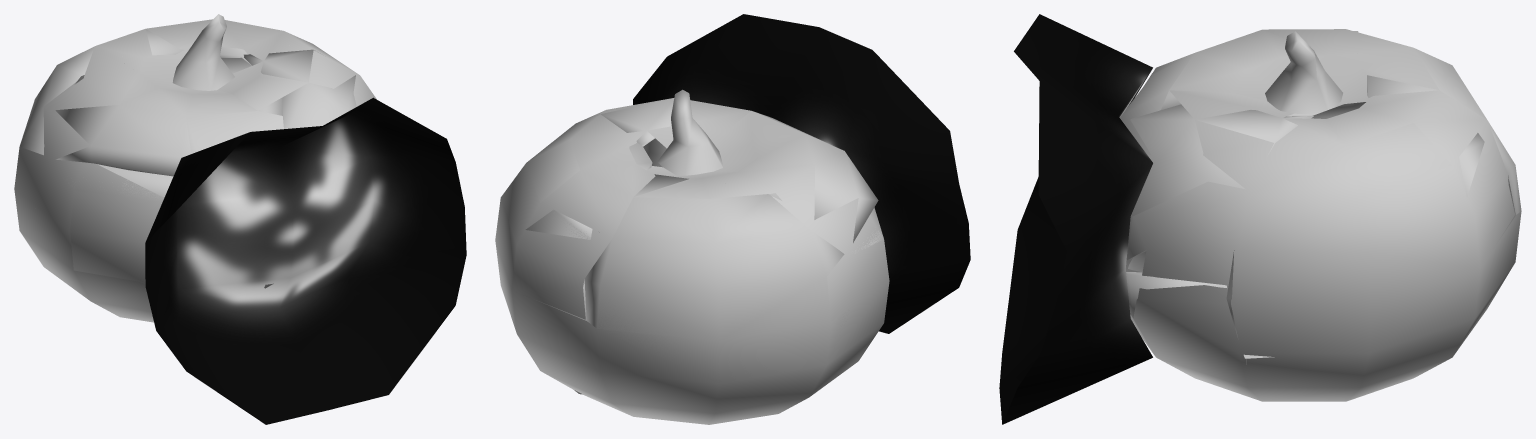
Rendered from Breakable Pumpkin - MDL.fbx.
3 renders of one model, left to right at view 1: azimuth 30°, elevation 25°; view 2: azimuth 150°, elevation 25°; view 3: azimuth 270°, elevation 25°, orthographic. The views are drawn at different scales.
Visible parts, largest first — view 1: PumpkinGlowMesh, PumpkinMeshFace1MAT, PumpkinFragmentMesh7, PumpkinFragmentMesh5, PumpkinFragmentMesh4, PumpkinFragmentMesh1; view 2: PumpkinMeshFace1MAT, PumpkinGlowMesh, PumpkinFragmentMesh1, PumpkinFragmentMesh7, PumpkinFragmentMesh6, PumpkinFragmentMesh4, PumpkinFragmentMesh3; view 3: PumpkinMeshFace1MAT, PumpkinGlowMesh, PumpkinFragmentMesh7, PumpkinFragmentMesh4, PumpkinFragmentMesh6, PumpkinFragmentMesh1, PumpkinFragmentMesh, PumpkinFragmentMesh3.
Boxes of the visible parts, x1,y1,x2,y2 form: PumpkinGlowMesh: [145, 97, 466, 424]; PumpkinMeshFace1MAT: [14, 16, 376, 322]; PumpkinFragmentMesh7: [55, 14, 282, 176]; PumpkinFragmentMesh5: [65, 164, 173, 282]; PumpkinFragmentMesh4: [244, 49, 356, 288]; PumpkinFragmentMesh1: [19, 29, 183, 155]; PumpkinMeshFace1MAT: [495, 90, 889, 424]; PumpkinGlowMesh: [633, 14, 970, 333]; PumpkinFragmentMesh1: [584, 174, 845, 388]; PumpkinFragmentMesh7: [643, 90, 878, 242]; PumpkinFragmentMesh6: [526, 140, 652, 202]; PumpkinFragmentMesh4: [597, 98, 674, 145]; PumpkinFragmentMesh3: [525, 209, 592, 320]; PumpkinMeshFace1MAT: [1120, 29, 1521, 401]; PumpkinGlowMesh: [999, 14, 1152, 424]; PumpkinFragmentMesh7: [1145, 29, 1358, 116]; PumpkinFragmentMesh4: [1128, 104, 1313, 271]; PumpkinFragmentMesh6: [1226, 102, 1452, 358]; PumpkinFragmentMesh1: [1367, 48, 1521, 214]; PumpkinFragmentMesh: [1126, 272, 1246, 364]; PumpkinFragmentMesh3: [1459, 133, 1515, 251].
Bounding box in the file's own units: 3.74 × 3.4 × 4.4.
